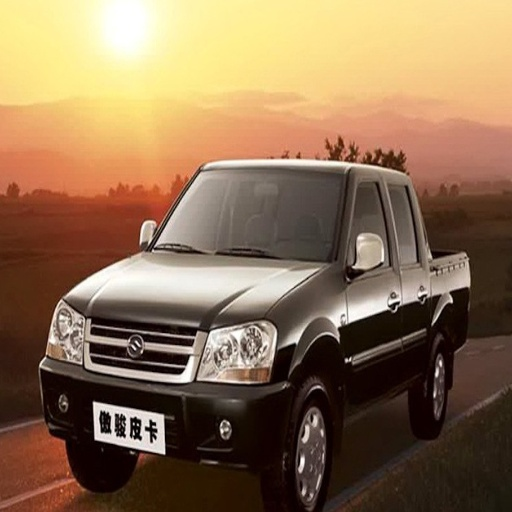back_glass: (382, 175, 430, 383)
back_right_light: (38, 314, 287, 479)
front_bumper: (147, 171, 344, 259)
front_glass: (344, 174, 403, 436)
front_left_door: (199, 319, 282, 384)
front_right_door: (48, 300, 84, 363)
front_right_light: (66, 250, 319, 334)
tailgate: (436, 257, 460, 309)
trunk: (266, 378, 333, 511), (410, 332, 449, 438), (72, 449, 133, 492)
